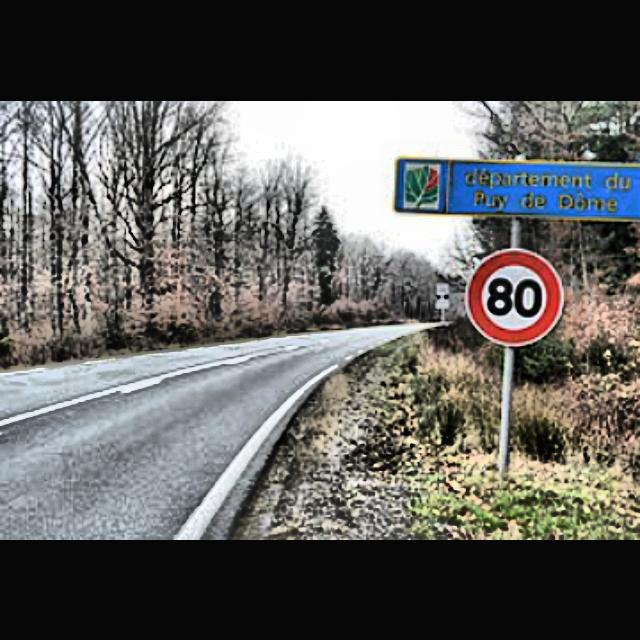speed_80: (464, 248, 568, 346)
